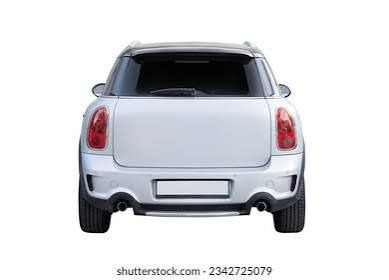car: (77, 36, 308, 235), (74, 45, 302, 235)
